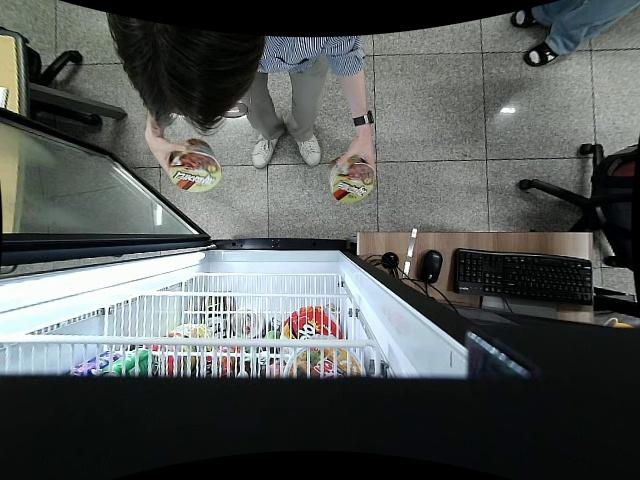00_hand: (145, 135, 188, 174), (336, 139, 378, 173)
03_chapagetti_L: (169, 142, 224, 193), (327, 156, 375, 206)
